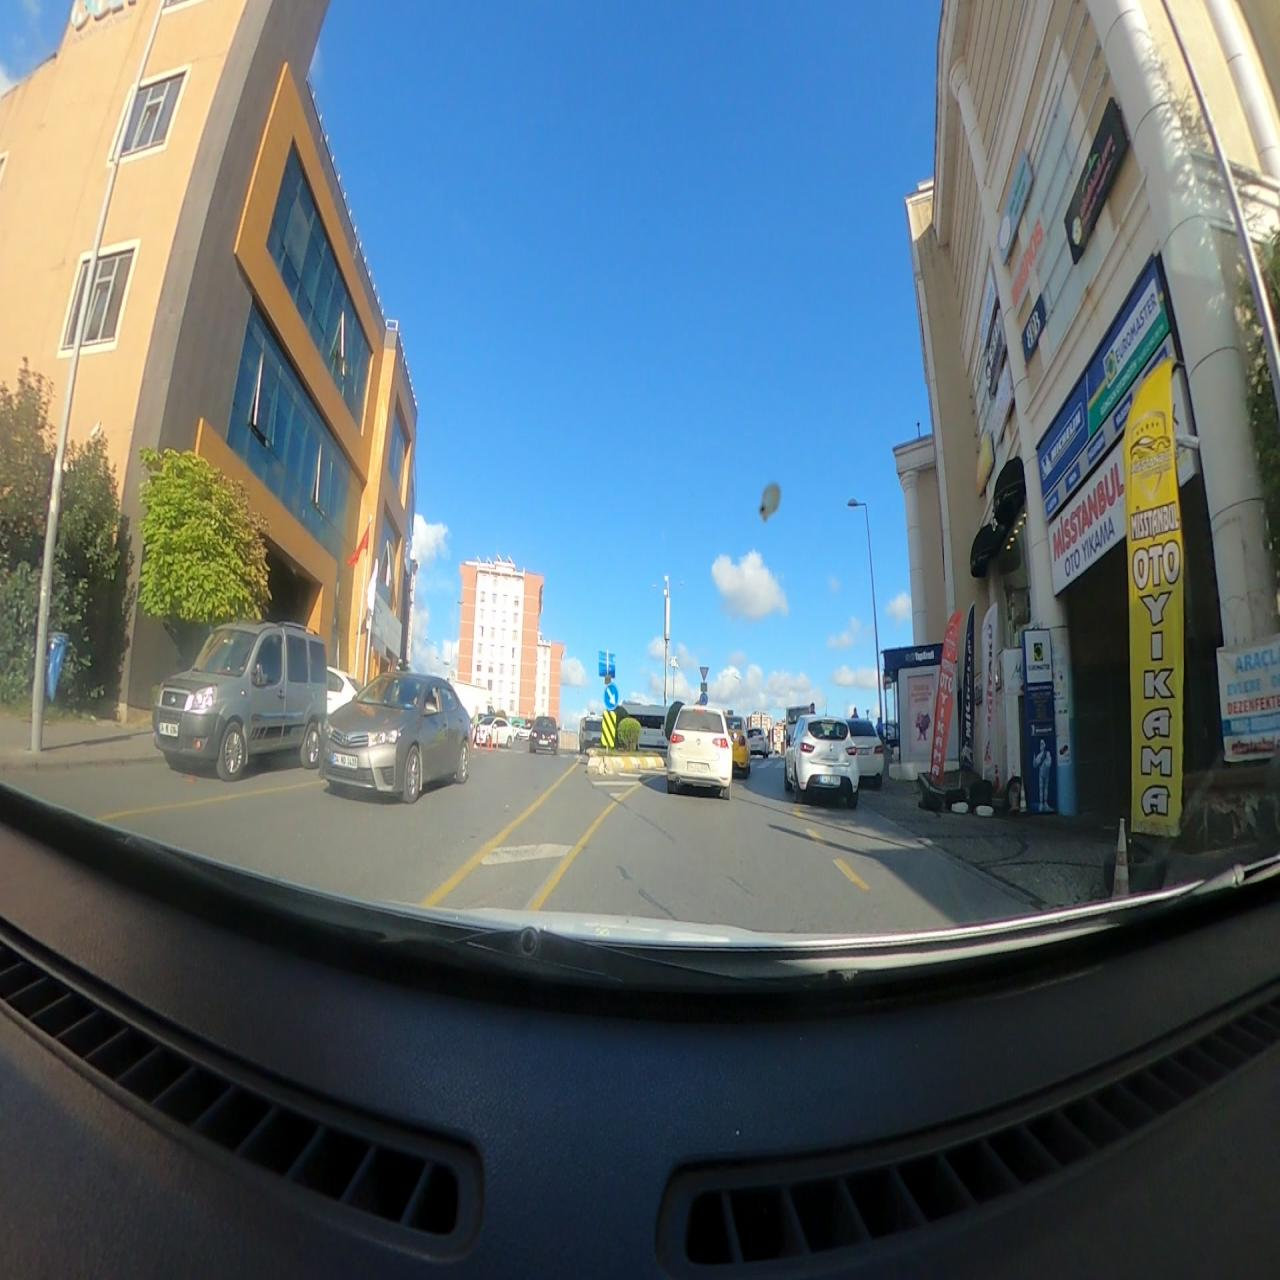SignStore: (1047, 443, 1124, 600), (1061, 95, 1126, 273), (992, 144, 1040, 278), (1006, 204, 1051, 325), (1017, 286, 1046, 366), (989, 367, 1013, 456), (982, 313, 1005, 401), (979, 273, 995, 358), (974, 430, 992, 497)
